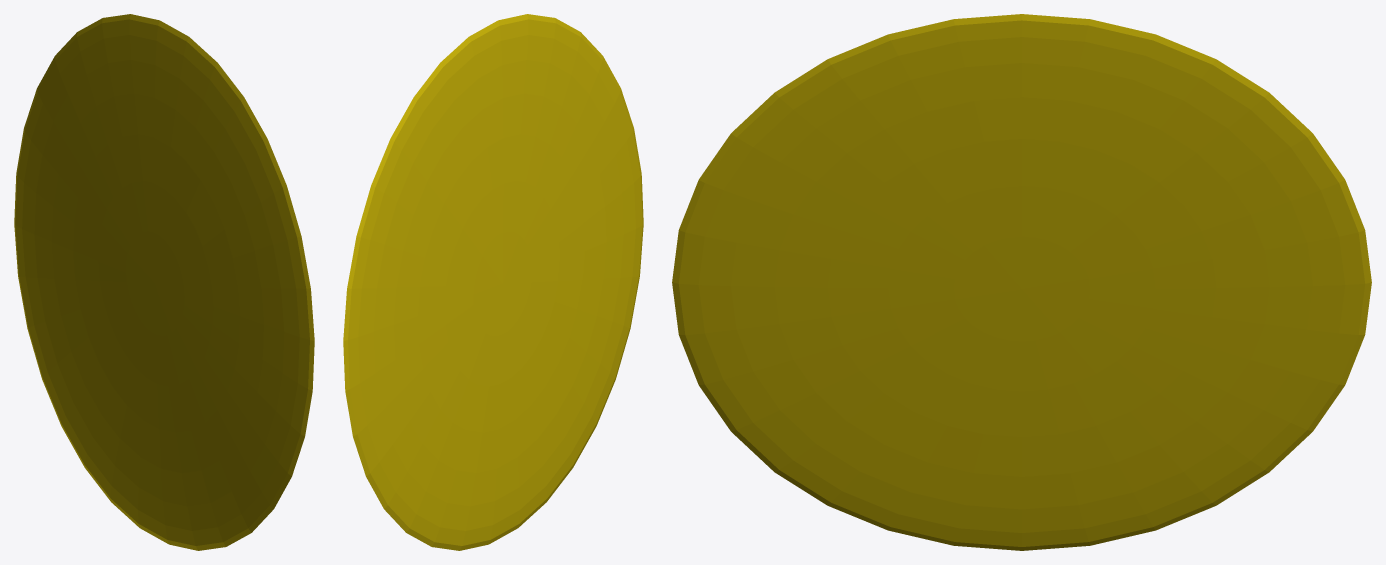
Rendered from sol4.obj.
3 views of the same model, side by side, from view 1: azimuth 30°, elevation 25°; view 2: azimuth 150°, elevation 25°; view 3: azimuth 270°, elevation 25° (orthographic). The views are drawn at different scales.
Visible parts, largest first — view 1: Sphere_Sphere.001; view 2: Sphere_Sphere.001; view 3: Sphere_Sphere.001.
Boxes of the visible parts, bbox=[...] form: Sphere_Sphere.001: bbox=[14, 14, 314, 550]; Sphere_Sphere.001: bbox=[343, 14, 643, 550]; Sphere_Sphere.001: bbox=[672, 14, 1371, 550].
Size of the model in its own units: 0.1306 by 1.13 by 1.27.
